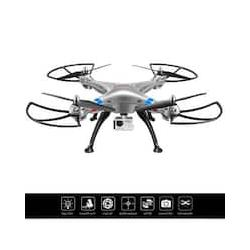drone: (25, 61, 223, 155)
